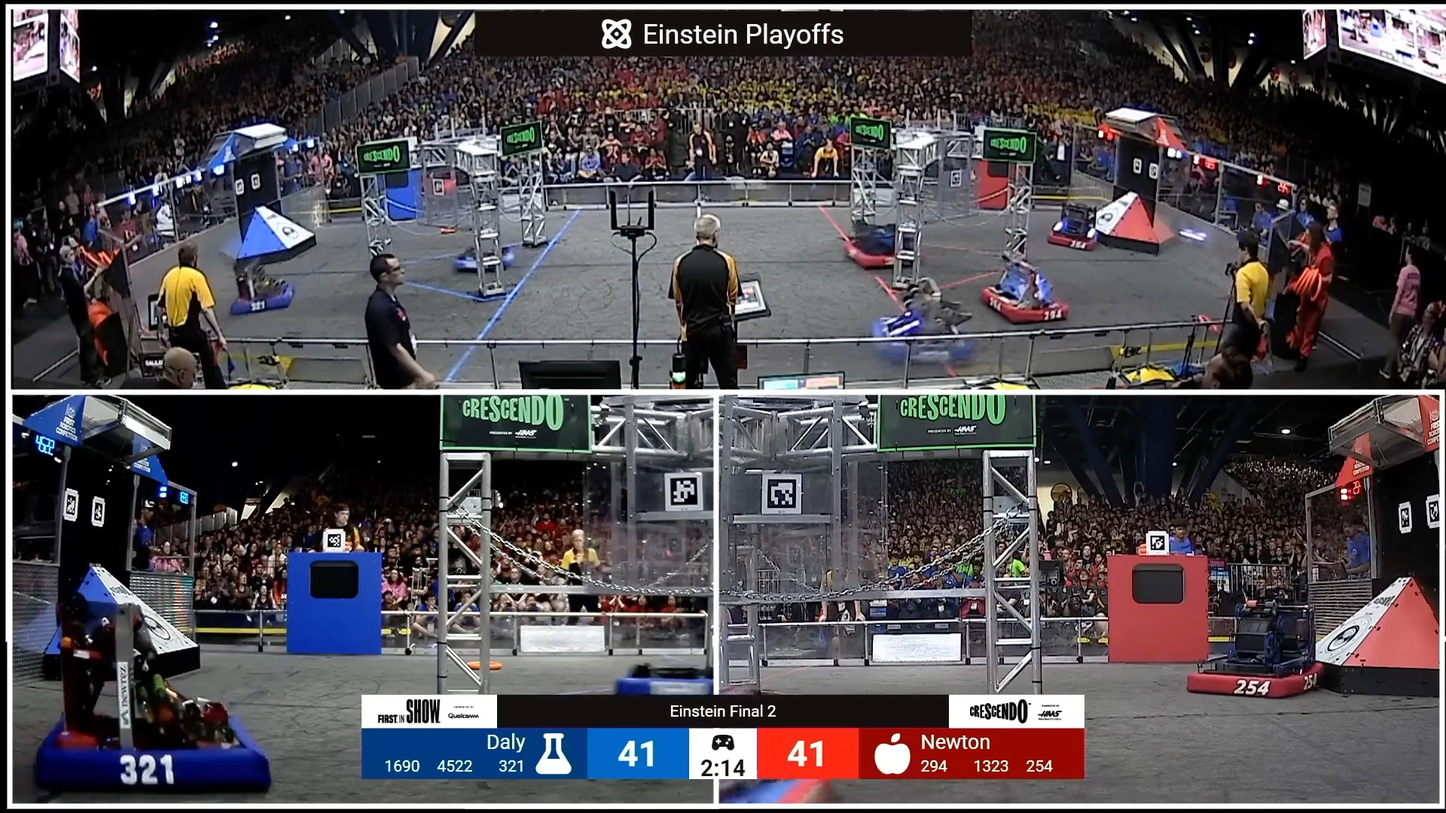bumpers: (30, 703, 280, 794), (1182, 652, 1335, 707), (870, 315, 979, 369), (977, 277, 1078, 331), (840, 224, 929, 270), (613, 665, 717, 703), (219, 278, 300, 322), (447, 243, 529, 275), (1048, 226, 1103, 253)
